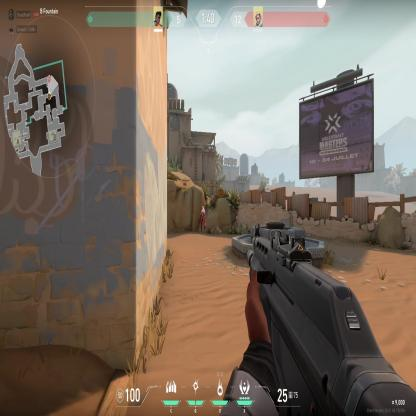enemy: (200, 204, 206, 234)
